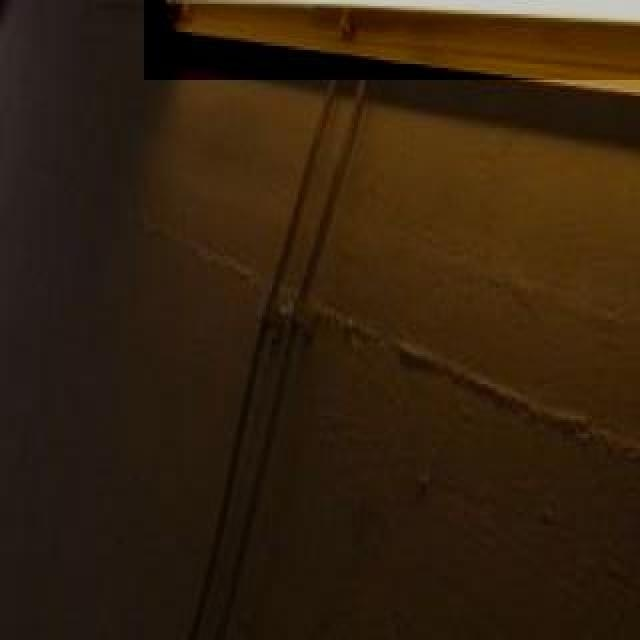fluorescent tube: (146, 0, 640, 70)
